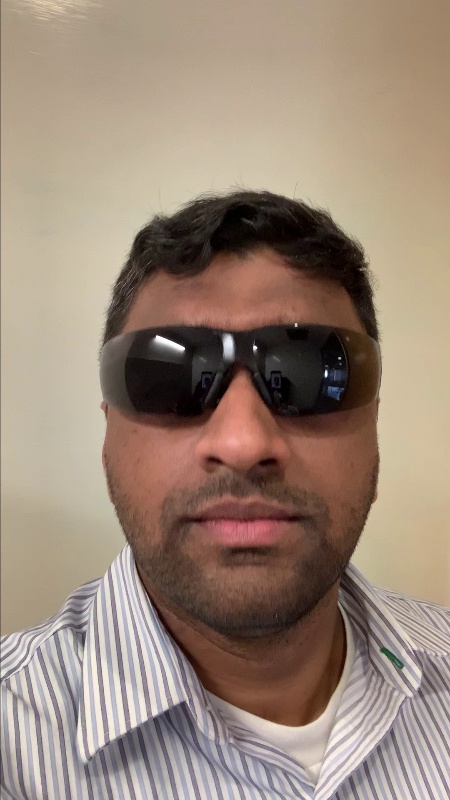glasses: (93, 324, 385, 423)
